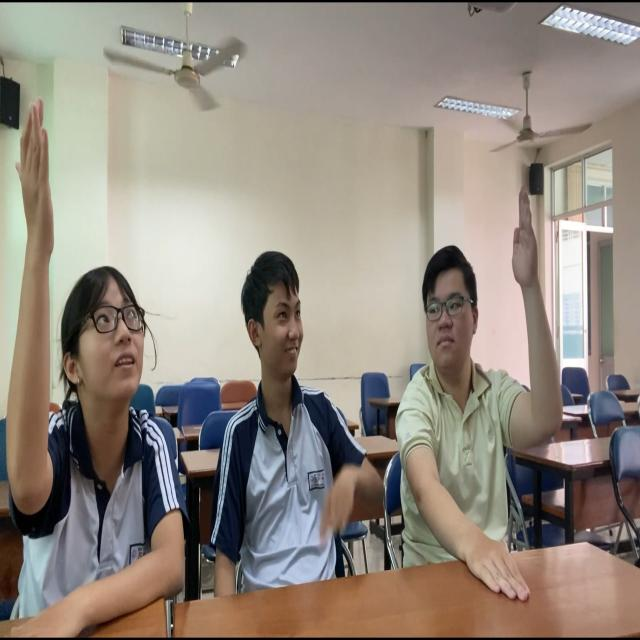raise_hand: (2, 92, 199, 637), (395, 191, 568, 615)
